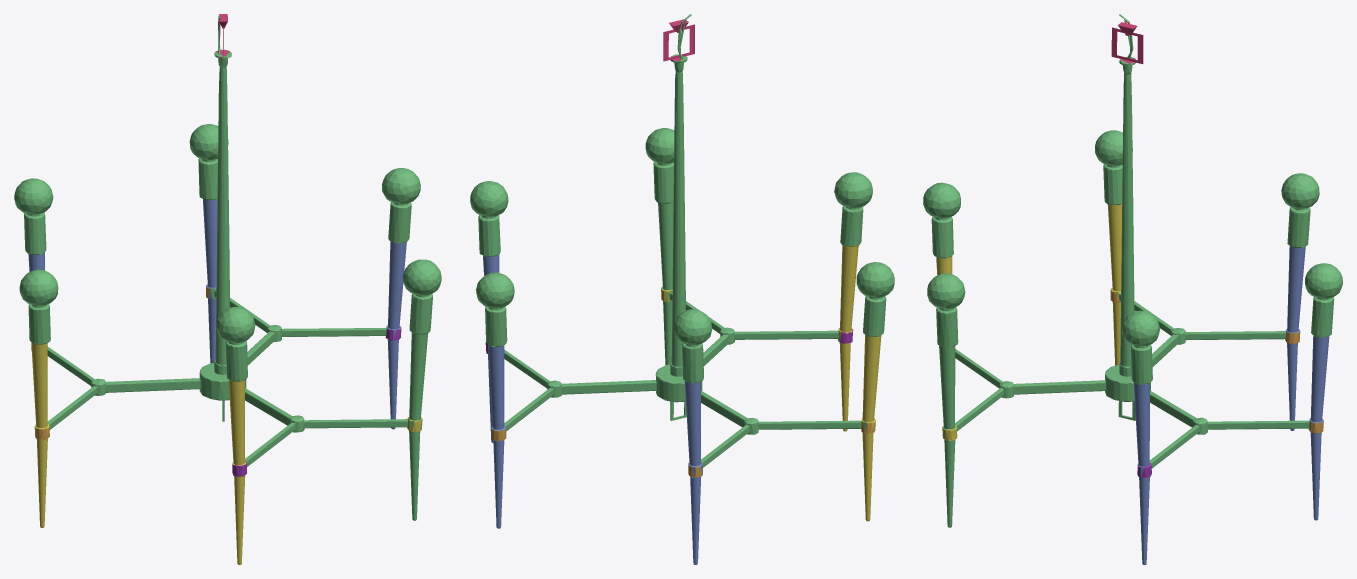
3 renders of one model, left to right at view 1: azimuth 30°, elevation 25°; view 2: azimuth 150°, elevation 25°; view 3: azimuth 270°, elevation 25°, orthographic.
Parts seen in each view (by area): view 1: world; view 2: world; view 3: world.
Part boxes in pixels (left/top/right/bottom): world: left=14, top=14, right=441, bottom=564; world: left=470, top=14, right=894, bottom=564; world: left=923, top=14, right=1342, bottom=564.
Bounding box in the file's own units: 0.7463 × 0.814 × 0.6724.
